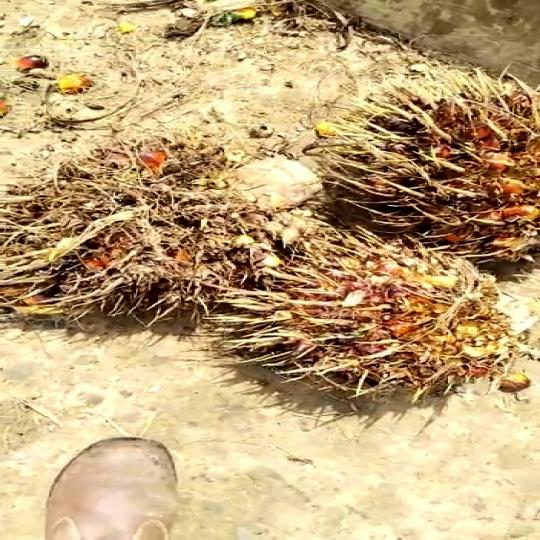terlalu masak: (182, 231, 539, 418), (0, 139, 295, 334), (319, 69, 540, 262)
